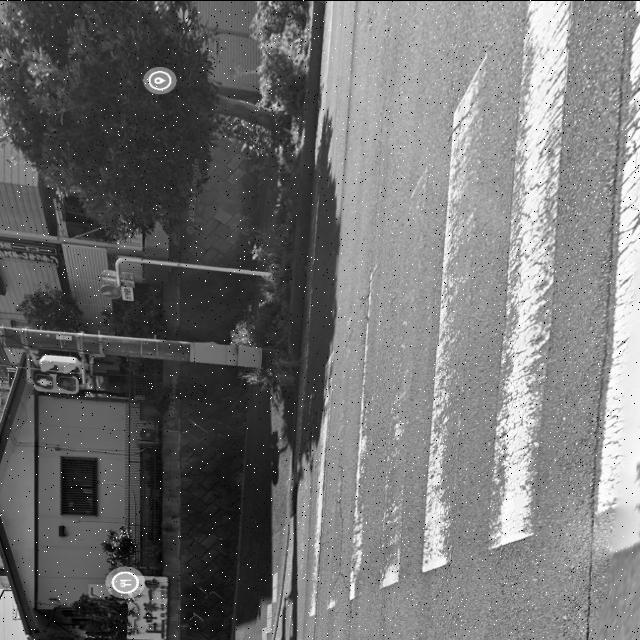traffic-light: (23, 368, 88, 386)
